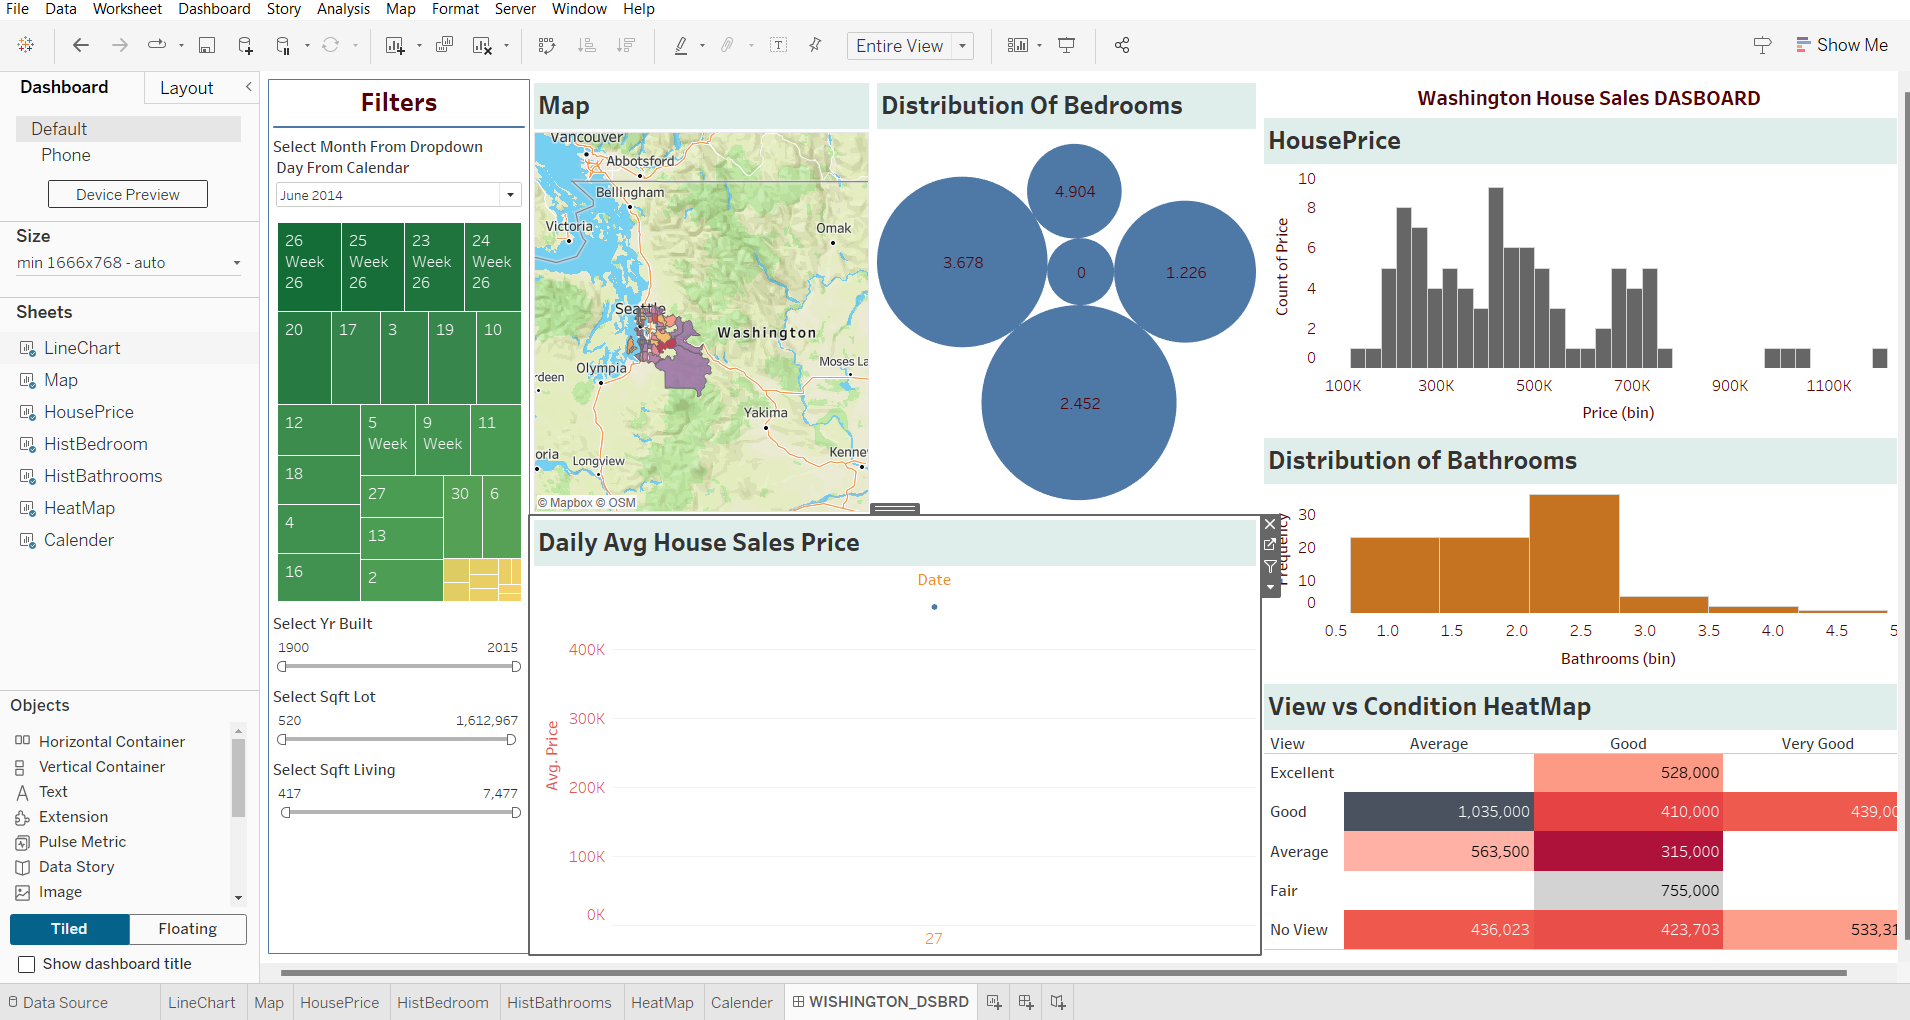

What the dashboard file says about the page in this screenshot:
{"tool":"tableau","page":{"name":"WISHINGTON_DSBRD","canvas":[1000,1000],"units":"permille","ordinal":0},"visuals":[{"type":"worksheet","title":"Map","mark":"Automatic","box":[162.3,9.4,205.7,490.5]},{"type":"worksheet","title":"HistBedroom","mark":"Circle","box":[367.9,9.4,232.5,490.5]},{"type":"text","box":[600.4,9.4,394.8,41.1]},{"type":"text","box":[5.4,10.6,156.3,49.4]},{"type":"worksheet","title":"HousePrice","mark":"Automatic","rows":["price"],"cols":["Price (bin)"],"box":[600.4,50.5,394.8,376]},{"type":"blank","box":[5.4,59.9,156.3,11.8]},{"type":"filter","title":"Calender","param":"[federated.0zzp6qh1199pcf1a4ewn31pey1jh].[my:date:ok]","box":[5.4,71.7,156.3,96.4]},{"type":"worksheet","title":"Calender","mark":"Automatic","box":[5.4,168,156.3,464.2]},{"type":"worksheet","title":"HistBathrooms","mark":"Automatic","rows":["bathrooms"],"cols":["Bathrooms (bin)"],"box":[600.4,426.6,394.8,289.1]},{"type":"worksheet","title":"LineChart","mark":"Automatic","rows":["price"],"cols":["date"],"box":[162.3,499.9,438.1,490.7]},{"type":"filter","title":"Calender","param":"[federated.0zzp6qh1199pcf1a4ewn31pey1jh].[none:yr_built:qk]","box":[5.4,632.2,156.3,85.8]},{"type":"worksheet","title":"HeatMap","mark":"Square","rows":["view"],"cols":["condition"],"box":[600.4,715.6,394.8,274.9]},{"type":"filter","title":"Calender","param":"[federated.0zzp6qh1199pcf1a4ewn31pey1jh].[none:sqft_lot:qk]","box":[5.4,718,156.3,85.8]},{"type":"filter","title":"Calender","param":"[federated.0zzp6qh1199pcf1a4ewn31pey1jh].[none:sqft_living:qk]","box":[5.4,803.8,156.3,85.8]}]}

Visuals, with their boxes on the dashboard's canvas, which has no fixed pixel size, in thousandths of its width and height (x1, y1, x2, y2). These are canvas units, not pixel positions in the 1910x1020 screenshot, which may show the page scaled, cropped or inside an application window:
"Map" worksheet: (162, 9, 368, 500)
"HistBedroom" worksheet (Circle marks): (368, 9, 600, 500)
text: (600, 9, 995, 50)
text: (5, 11, 162, 60)
"HousePrice" worksheet: (600, 50, 995, 426)
blank: (5, 60, 162, 72)
"Calender" filter: (5, 72, 162, 168)
"Calender" worksheet: (5, 168, 162, 632)
"HistBathrooms" worksheet: (600, 427, 995, 716)
"LineChart" worksheet: (162, 500, 600, 991)
"Calender" filter: (5, 632, 162, 718)
"HeatMap" worksheet (Square marks): (600, 716, 995, 990)
"Calender" filter: (5, 718, 162, 804)
"Calender" filter: (5, 804, 162, 890)
